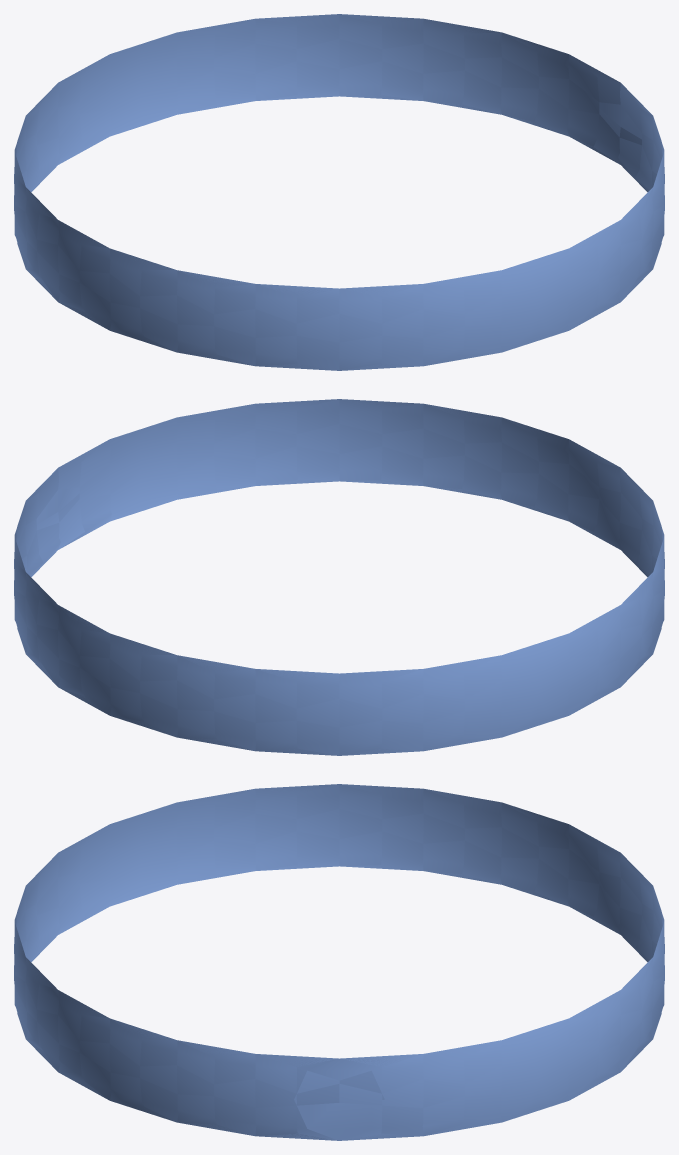
File: antigrav_ring.glb
3 renders of one model, top to bottom at view 1: azimuth 30°, elevation 25°; view 2: azimuth 150°, elevation 25°; view 3: azimuth 270°, elevation 25°, orthographic.
Visible parts, largest first — view 1: antigrav_ring; view 2: antigrav_ring; view 3: antigrav_ring.
Boxes of the visible parts, <box> form: antigrav_ring: <box>14,14,664,370</box>; antigrav_ring: <box>14,399,664,755</box>; antigrav_ring: <box>14,784,664,1140</box>.
Size of the model in its own units: 1 by 0.14 by 1.
